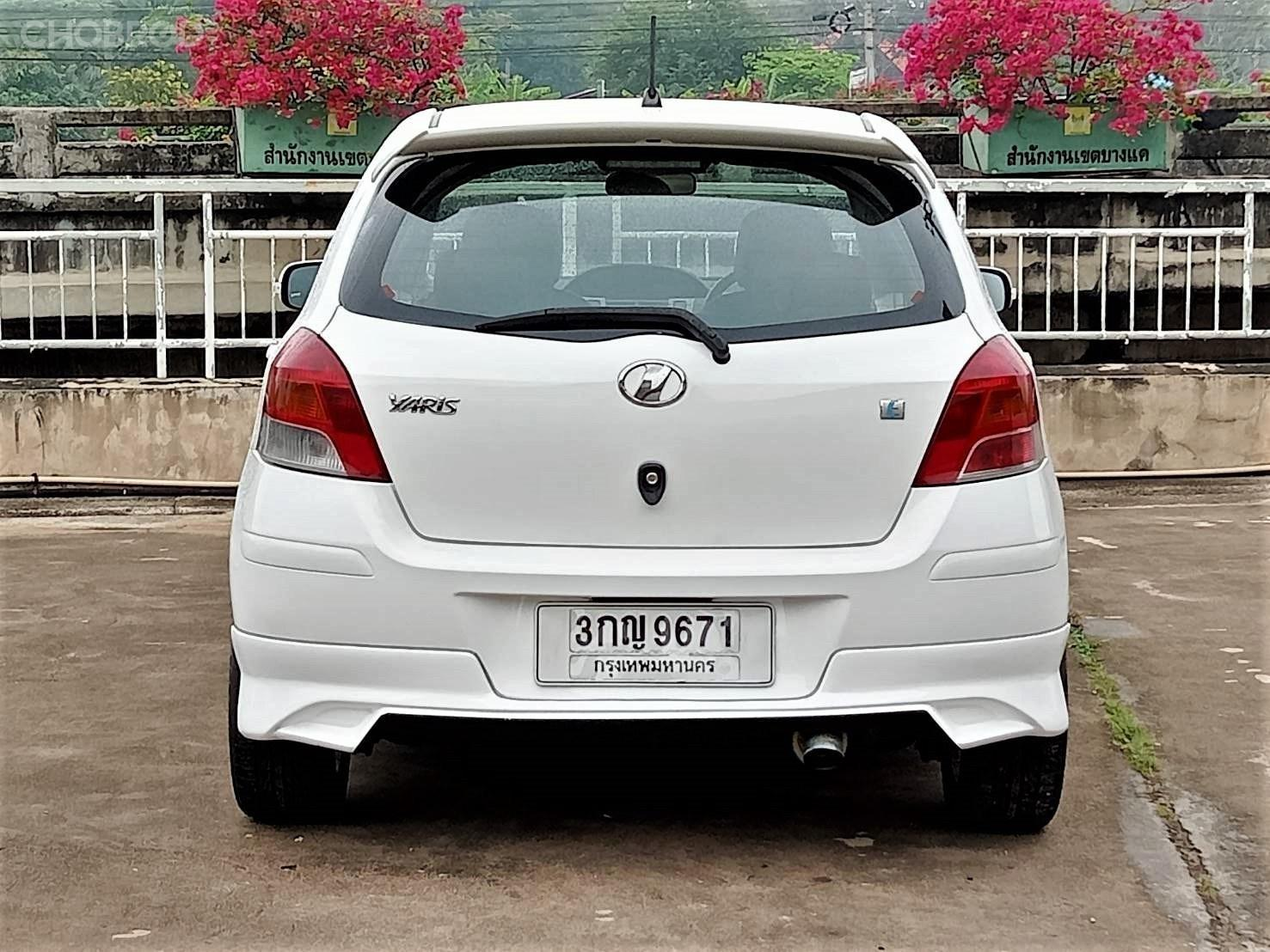license-plate: (528, 591, 781, 695)
